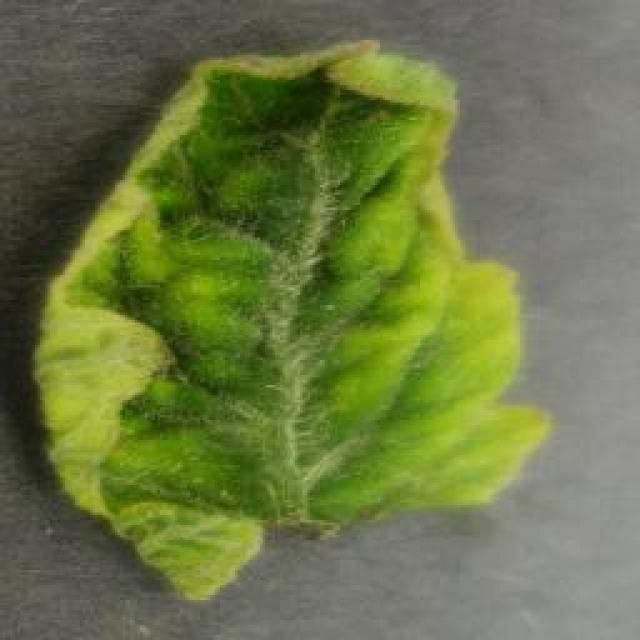Tomato yellow virus leaf: (31, 43, 554, 595)
